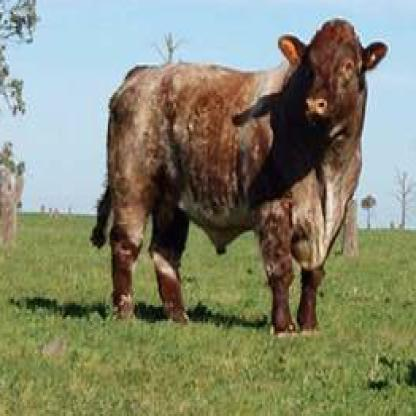cow: (88, 18, 388, 335)
